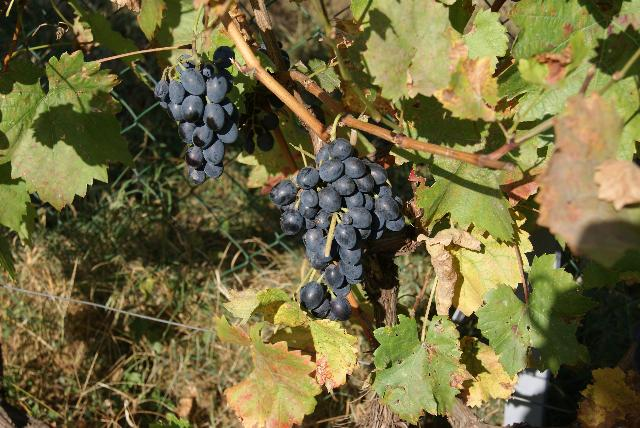grapes: (270, 138, 405, 321), (155, 46, 239, 184)
